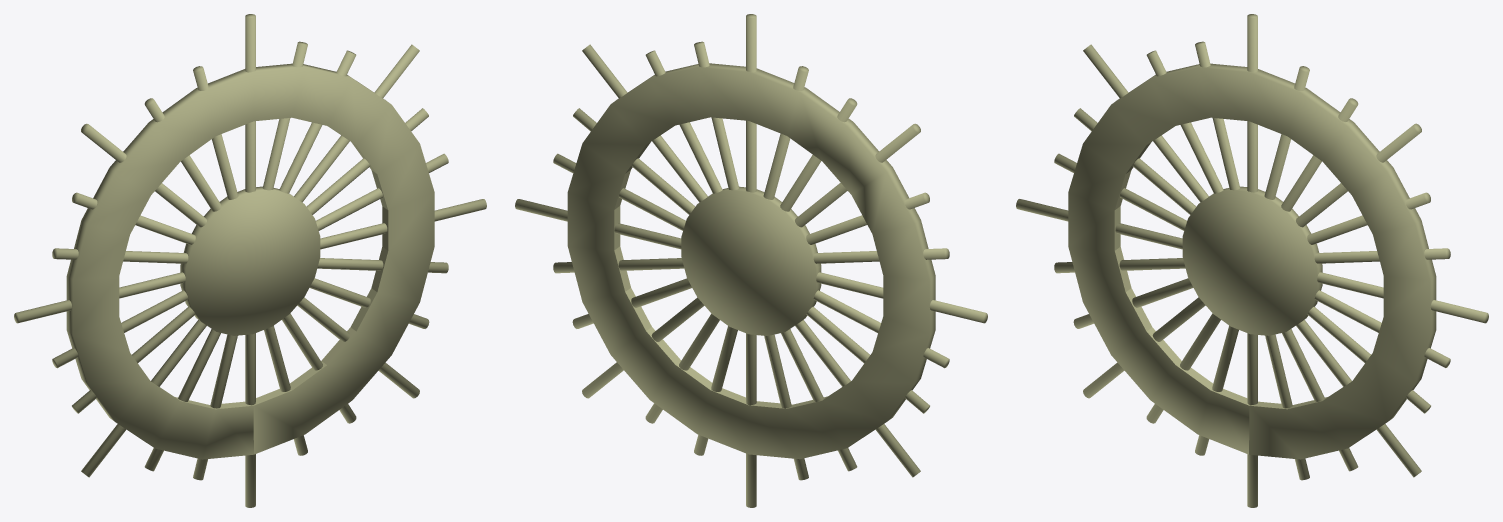
Rendered from syakaWeapon.fbx.
3 renders of one model, left to right at view 1: azimuth 30°, elevation 25°; view 2: azimuth 150°, elevation 25°; view 3: azimuth 330°, elevation 25°, orthographic.
Visible parts, largest first — view 1: gokou; view 2: gokou; view 3: gokou.
Part boxes in pixels (x1=…): gokou: x1=14, y1=14, x2=486, y2=507; gokou: x1=515, y1=14, x2=987, y2=507; gokou: x1=1016, y1=14, x2=1488, y2=507.
Size of the model in its own units: 115 by 115 by 2.67.
